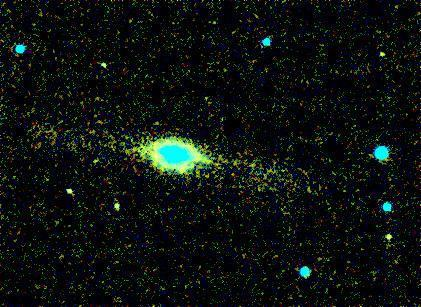star: (80, 145, 110, 175)
